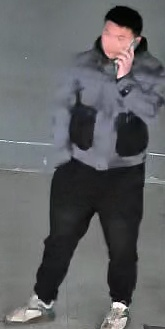phone: (97, 1, 162, 123)
